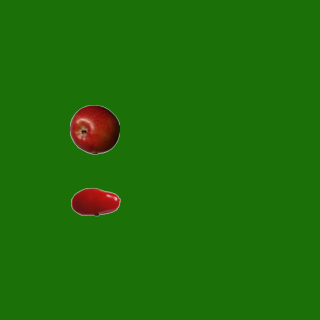Apple Braeburn: (69, 104, 119, 154)
Tomato 2: (70, 176, 120, 226)
